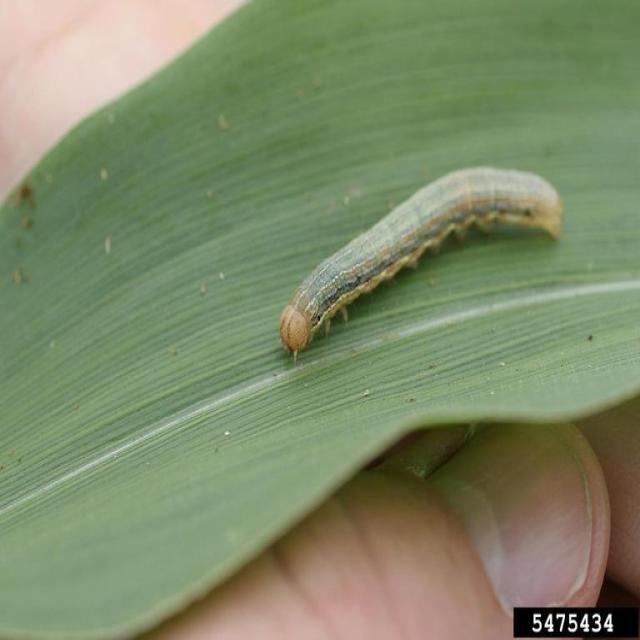pest: (280, 185, 561, 344)
